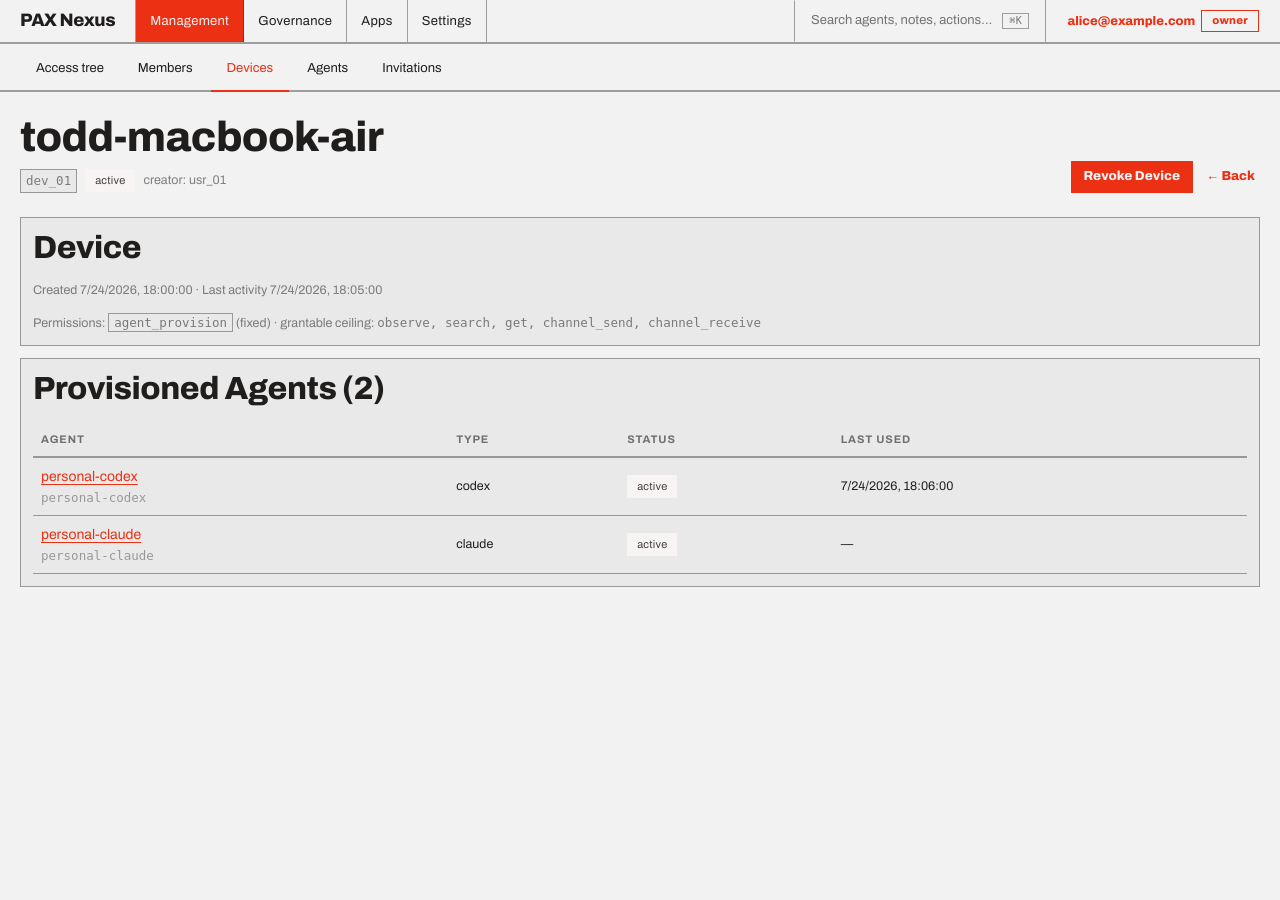
Test: Device detail and cascade revocation › shows the live provisioned agents and previews the cascade before revoking
expect the heading "Provisioned Agents (2)" is shown: met, box x1=33 y1=371 x2=385 y2=406
expect the link "personal-codex" is shown: met, box x1=41 y1=469 x2=138 y2=484
Click the button "Revoke Device". click: (1132, 177)
box: x1=1070 y1=161 x2=1193 y2=193
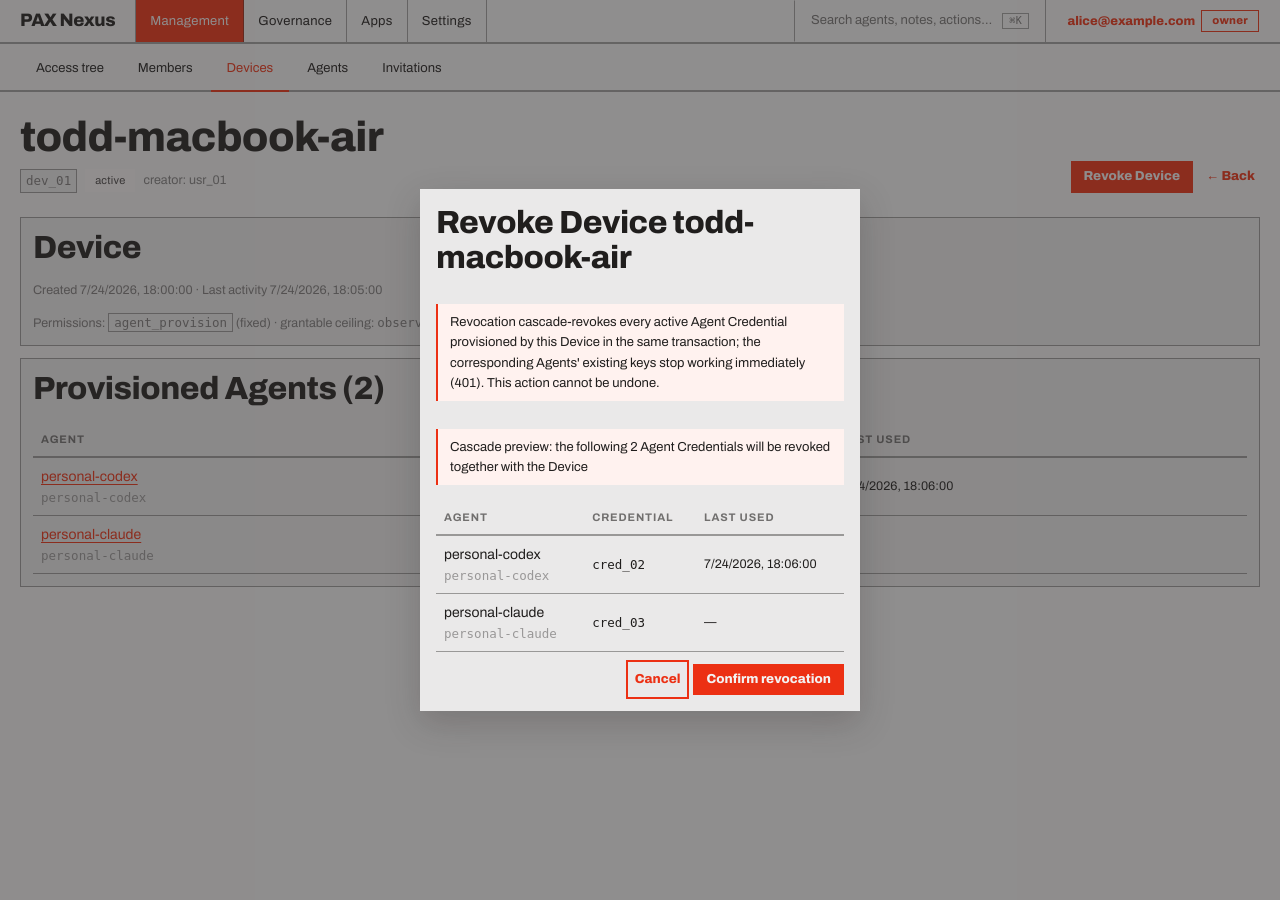
expect the text "the following 2 Agent Credentials will be revoked" is shown: met, box x1=436 y1=429 x2=844 y2=485
expect the text "cred_02" is shown: met, box x1=584 y1=535 x2=696 y2=594
expect the text "cred_03" is shown: met, box x1=584 y1=594 x2=696 y2=652
Click the button "Confirm revocation". click: (769, 680)
box: x1=694 y1=664 x2=844 y2=695
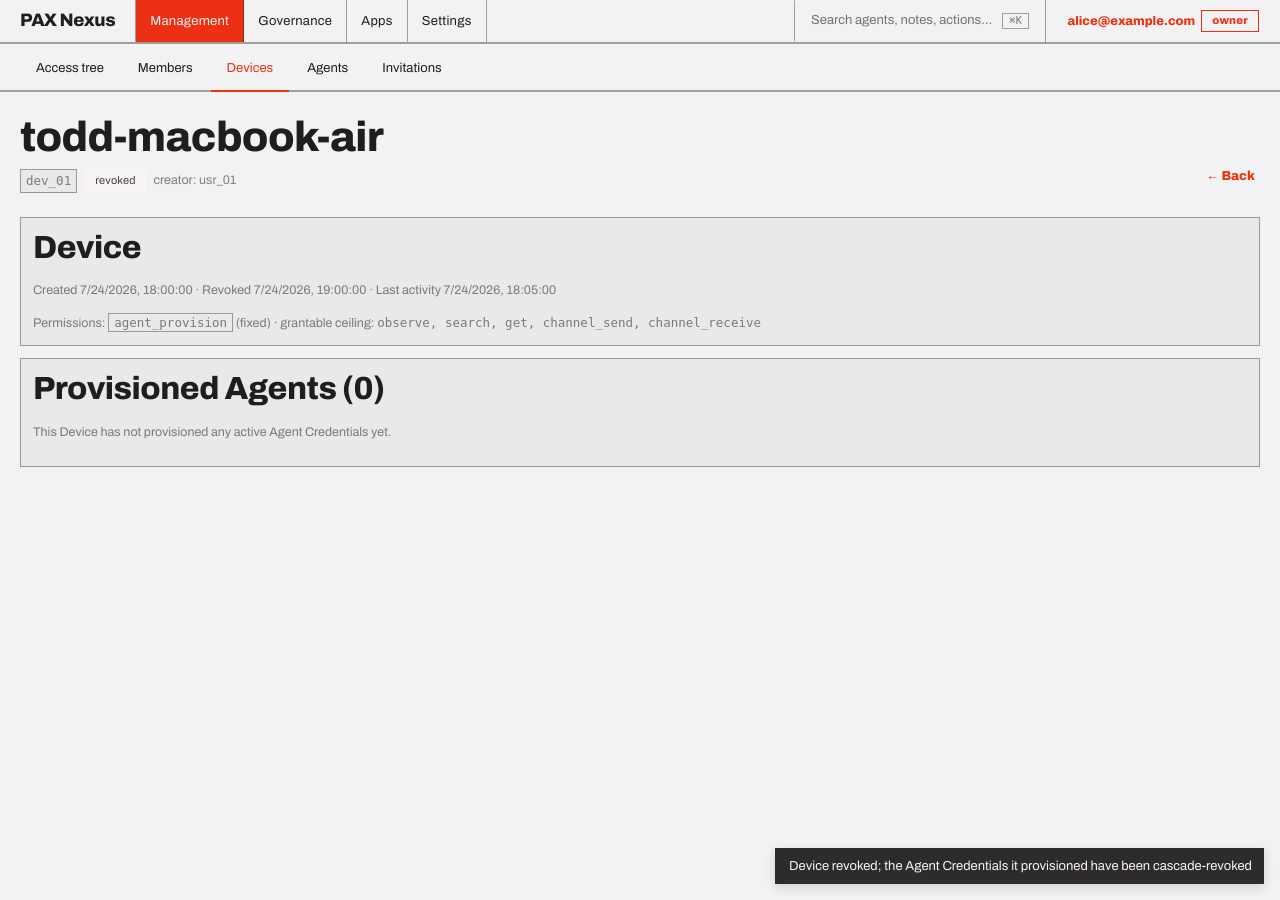
expect the text "Device revoked" is shown: met, box x1=789 y1=859 x2=1252 y2=873
expect the text "This Device has not provisioned any active Agent Credentials yet." is shown: met, box x1=33 y1=425 x2=391 y2=439
expect the button "Revoke Device" is gone: met
